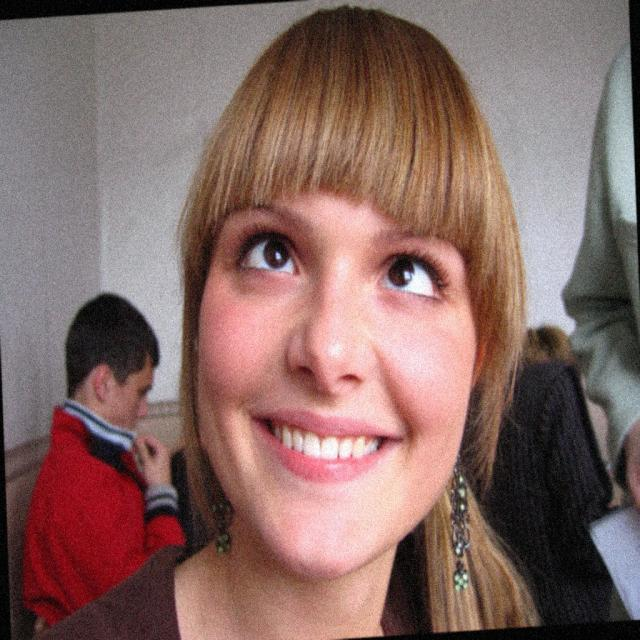Squint: (372, 234, 453, 314), (224, 218, 305, 292)
